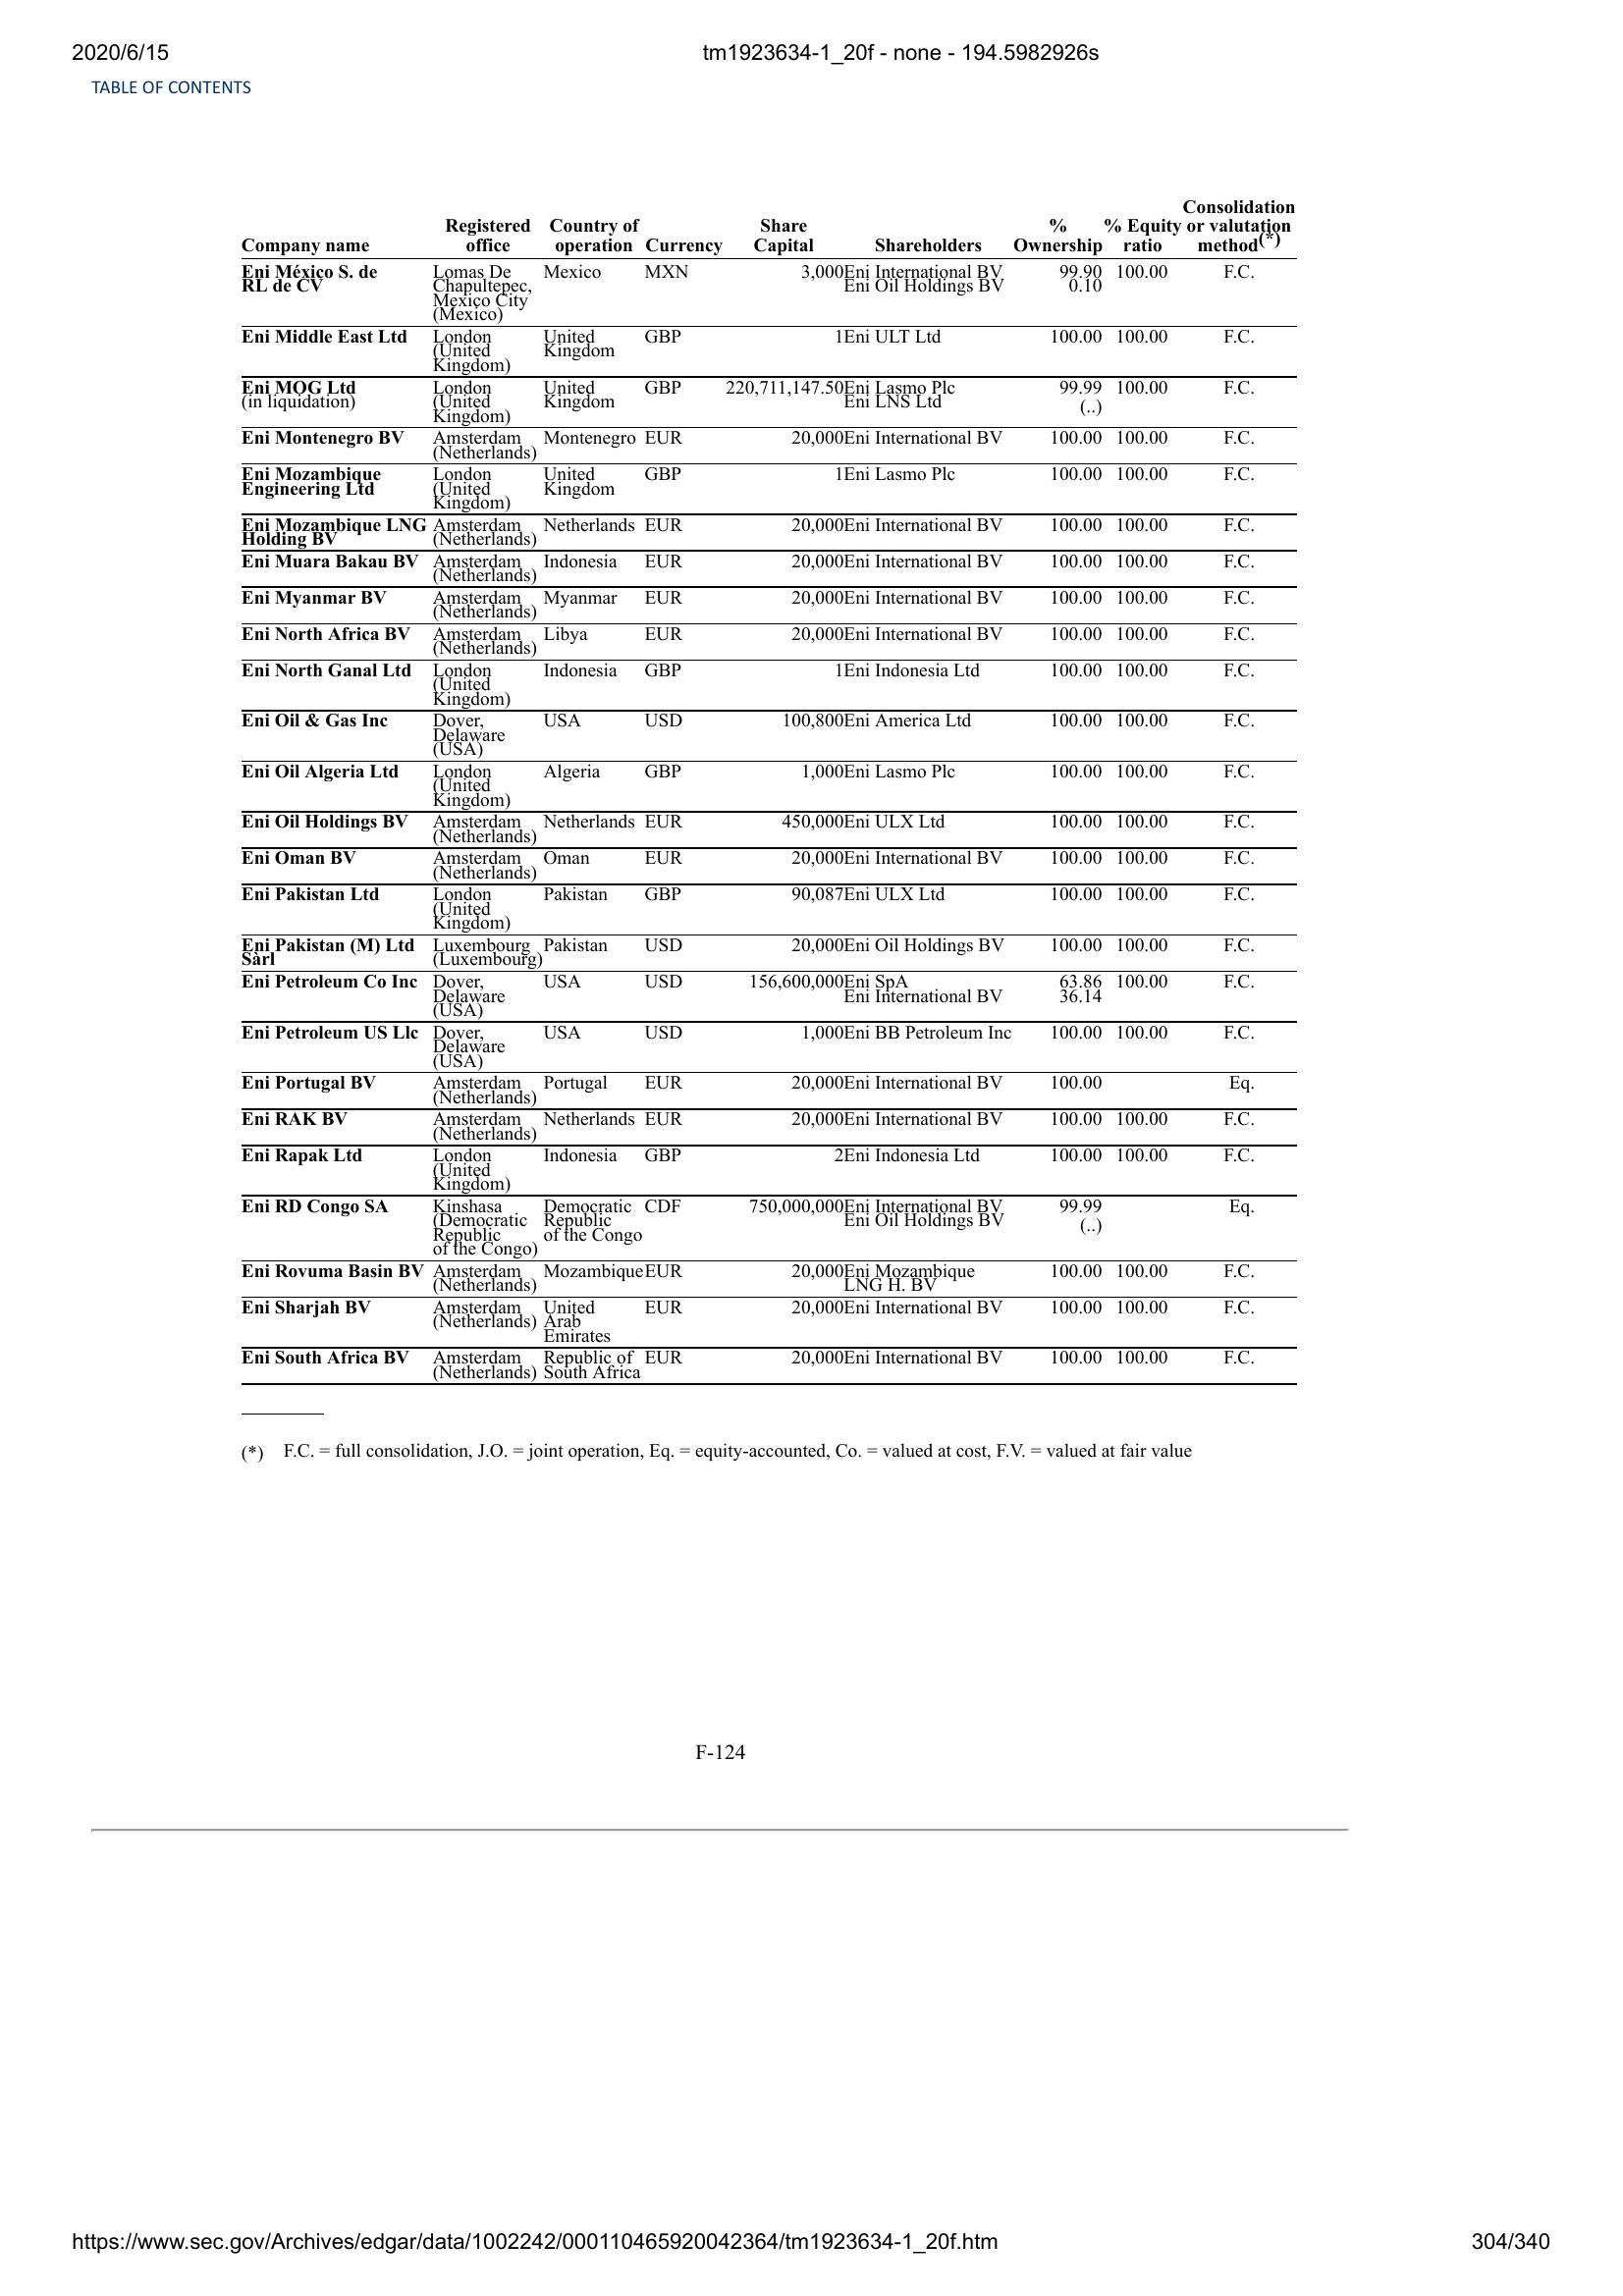table: (230, 195, 1305, 1399)
